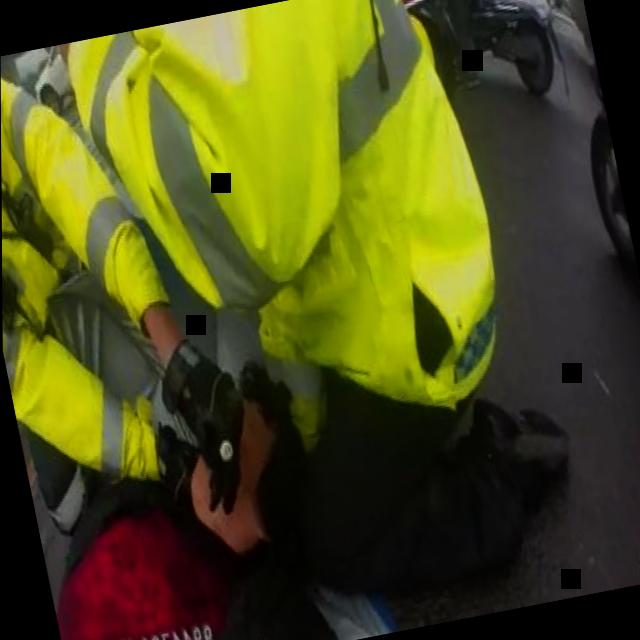Fall-Detected: (2, 283, 345, 640)
